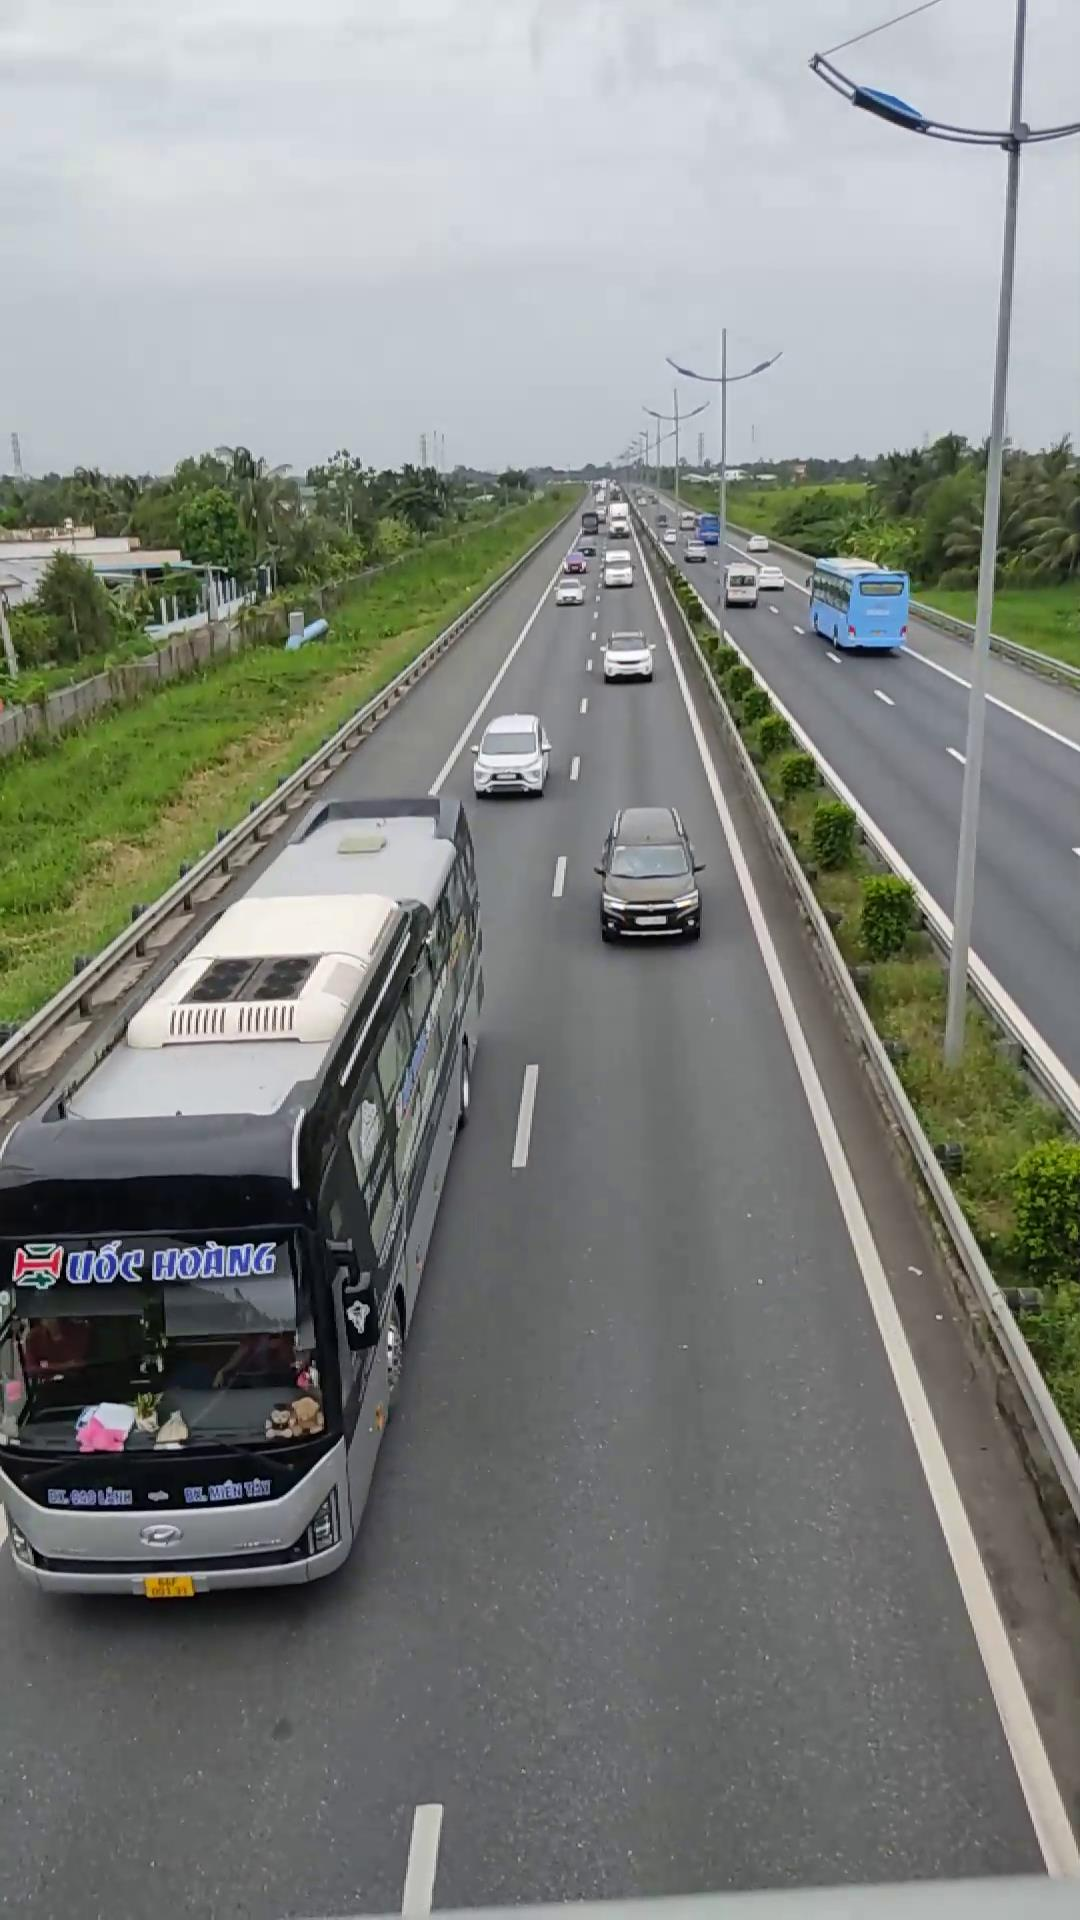bus: (0, 793, 483, 1596)
car: (593, 804, 703, 942), (469, 713, 553, 796)
